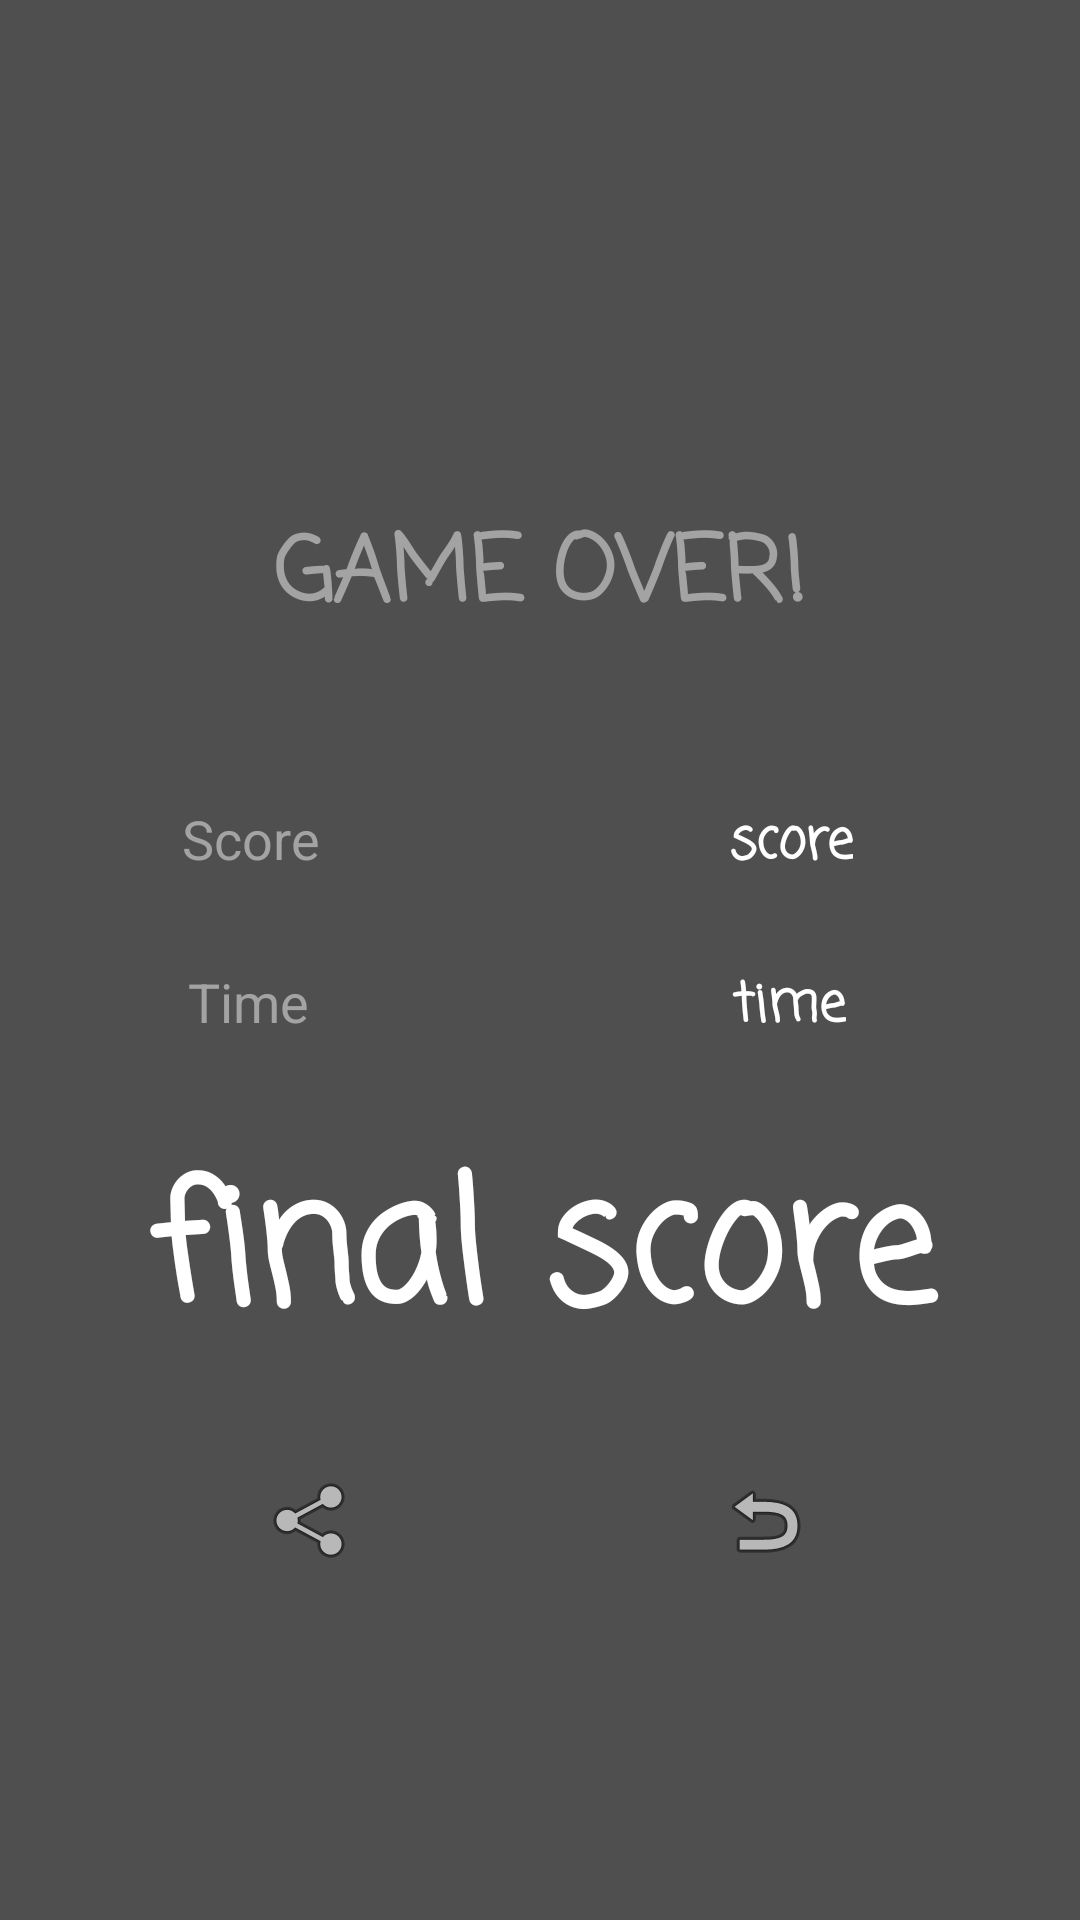

Screen size 1080×1920. Icon name, then its box in pixels as bbox=[x1, y1, x2, y2]:
revert: bbox=[732, 1491, 800, 1552]
share button: bbox=[274, 1484, 344, 1557]
